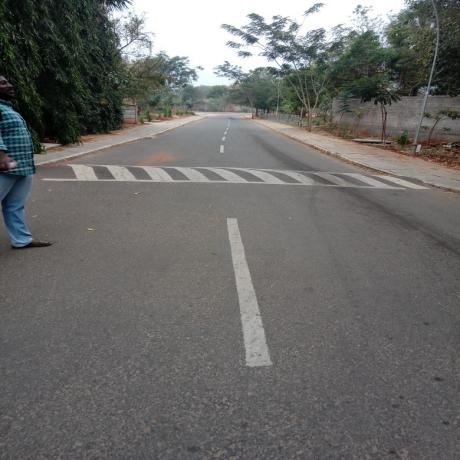Speed Bump: (30, 164, 426, 188)
